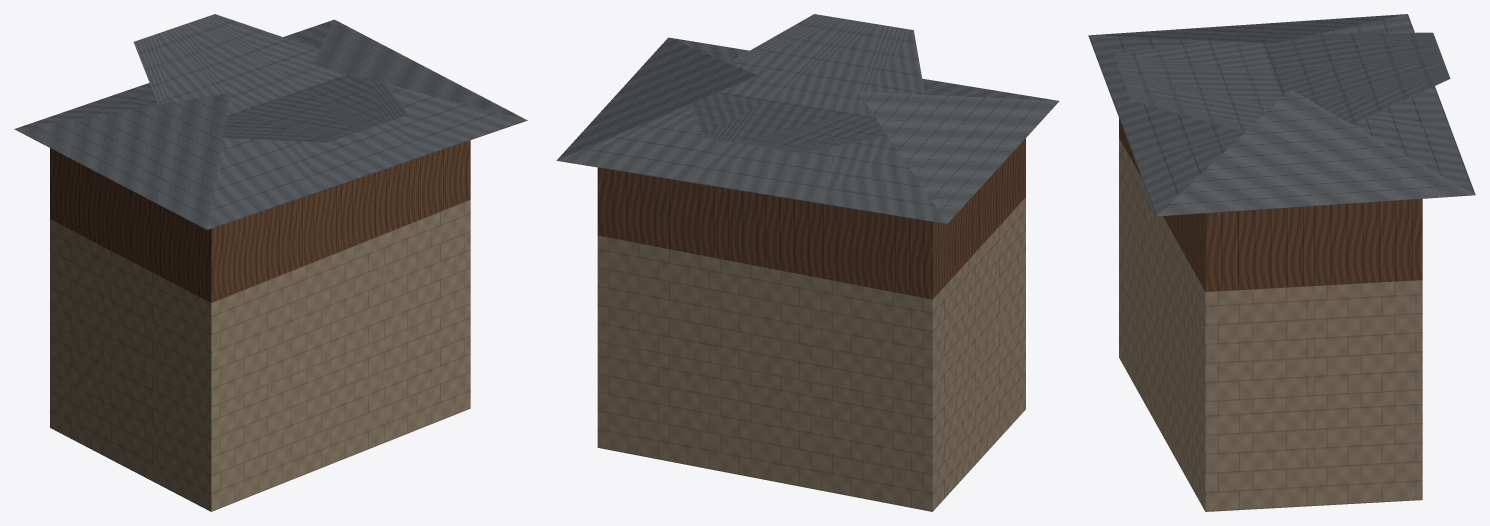
Rendered from bld_c40_3_620.gltf.
3 views of the same model, side by side, from view 1: azimuth 30°, elevation 25°; view 2: azimuth 150°, elevation 25°; view 3: azimuth 270°, elevation 25° (orthographic). The views are drawn at different scales.
Parts seen in each view (by area): view 1: bld_c40_3_620; view 2: bld_c40_3_620; view 3: bld_c40_3_620.
Part boxes in pixels (<box>): bld_c40_3_620: <box>14,14,527,511</box>; bld_c40_3_620: <box>556,14,1059,511</box>; bld_c40_3_620: <box>1088,14,1475,511</box>.
Bounding box in the file's own units: 8.89 × 7.4 × 7.19.
3 materials, 3 textured.
